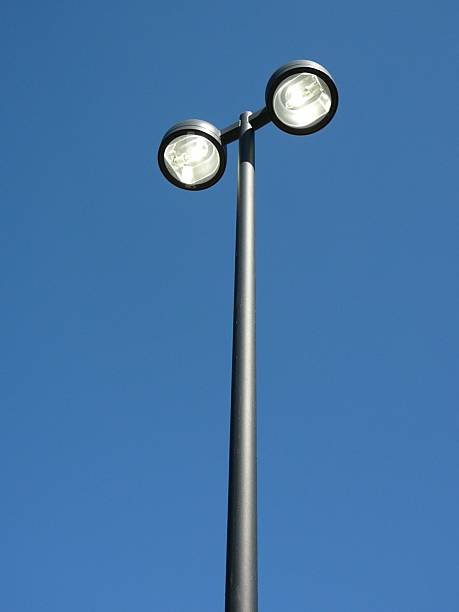light_pole: (220, 161, 263, 612)
